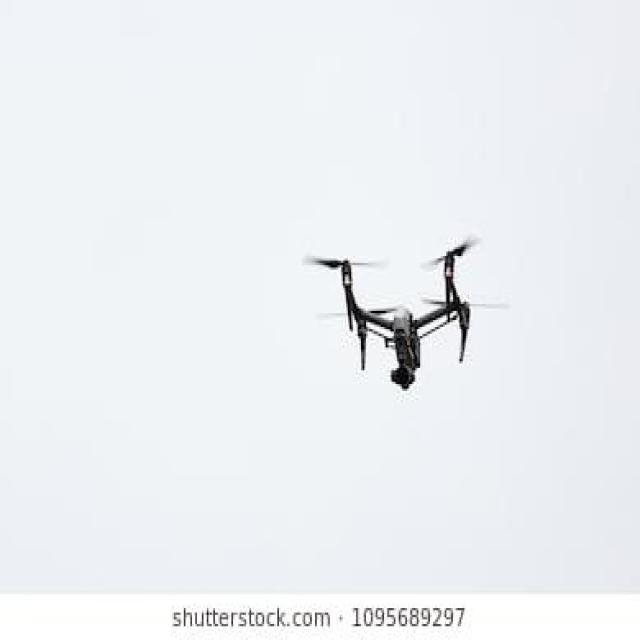drone: (226, 224, 577, 404)
